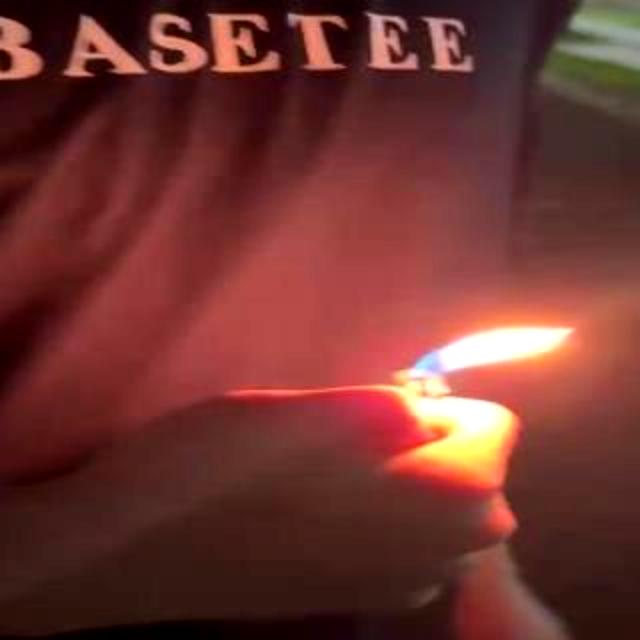fire: (392, 325, 572, 398)
